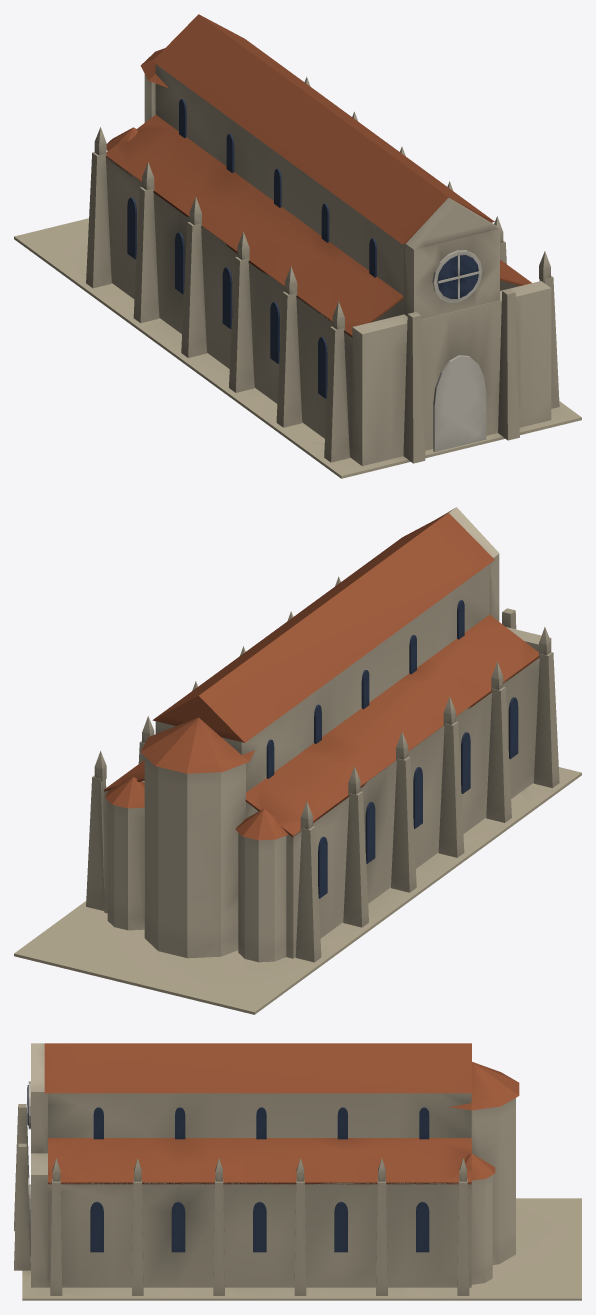
Rendered from carmo.glb.
3 renders of one model, top to bottom at view 1: azimuth 30°, elevation 25°; view 2: azimuth 150°, elevation 25°; view 3: azimuth 270°, elevation 25°, orthographic. The views are drawn at different scales.
Visible parts, largest first — view 1: p1_nave, p2_front and apse, p0_ground; view 2: p1_nave, p2_front and apse, p0_ground; view 3: p1_nave, p2_front and apse, p0_ground.
Boxes of the visible parts, left/top/right/bottom form: p1_nave: left=86, top=14, right=559, bottom=462; p2_front and apse: left=106, top=48, right=551, bottom=466; p0_ground: left=14, top=218, right=581, bottom=478; p1_nave: left=86, top=513, right=559, bottom=962; p2_front and apse: left=105, top=507, right=551, bottom=962; p0_ground: left=14, top=767, right=581, bottom=1014; p1_nave: left=44, top=1043, right=471, bottom=1295; p2_front and apse: left=14, top=1043, right=519, bottom=1287; p0_ground: left=22, top=1198, right=581, bottom=1300.
Size of the model in its own units: 28 by 27 by 67.
